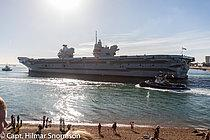MIL_Ship: (16, 29, 196, 82)
